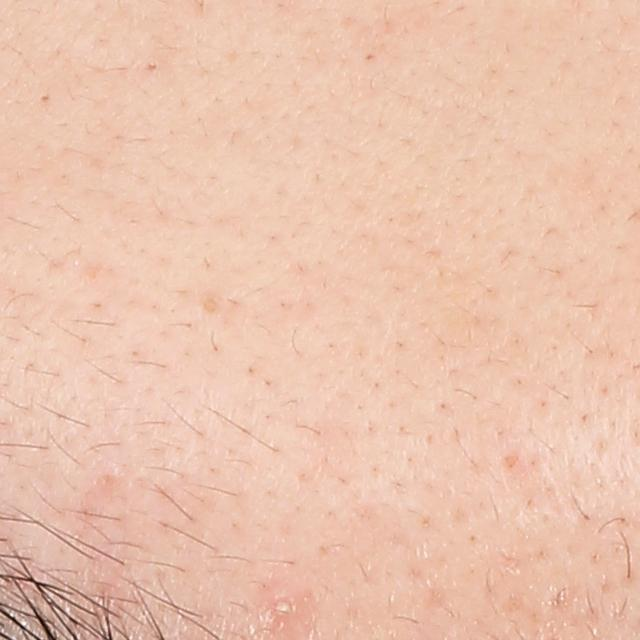comedo: (141, 60, 159, 72)
pustule: (260, 583, 304, 627)
